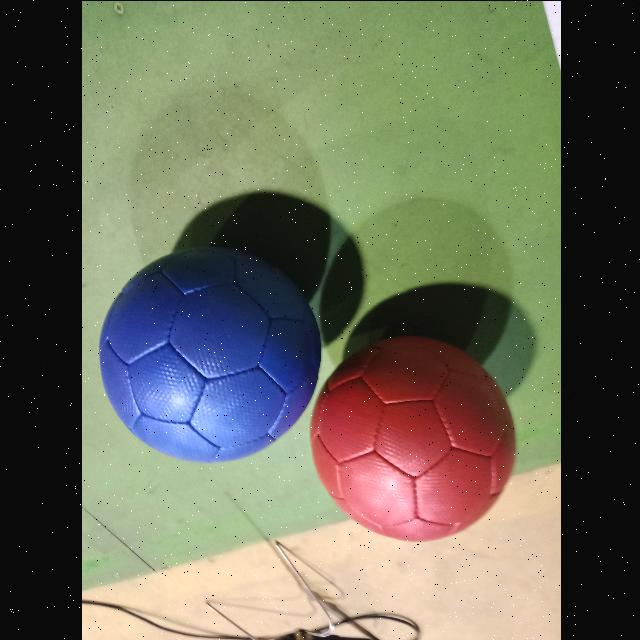B: (97, 243, 320, 462)
R: (308, 334, 514, 540)
